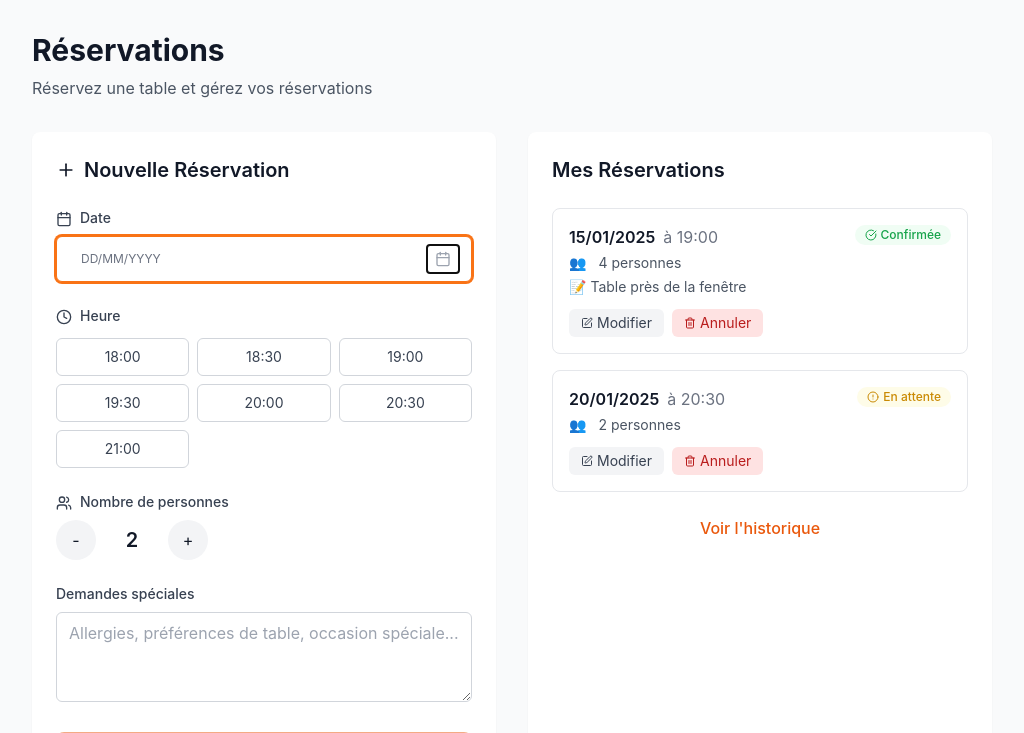
Scenario: Reservations Component › should increment/decrement party size with buttons
expect the text with class "font-semibold" reads "2": met, box 126,528 -> 138,552
// Increment party size
Step 1. Click the button "+" → (188, 540), box 168,520 -> 208,560
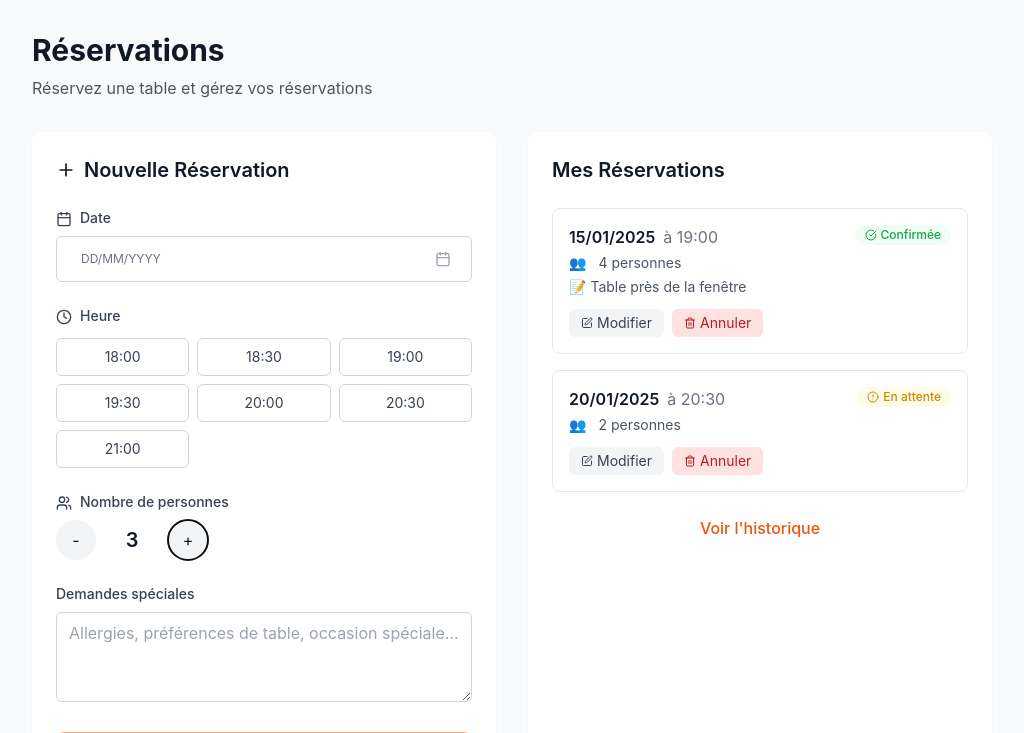
expect the text with class "font-semibold" reads "3": met, box 126,528 -> 138,552
// Decrement party size back to 2
Step 2. Click the button "-" → (76, 540), box 56,520 -> 96,560
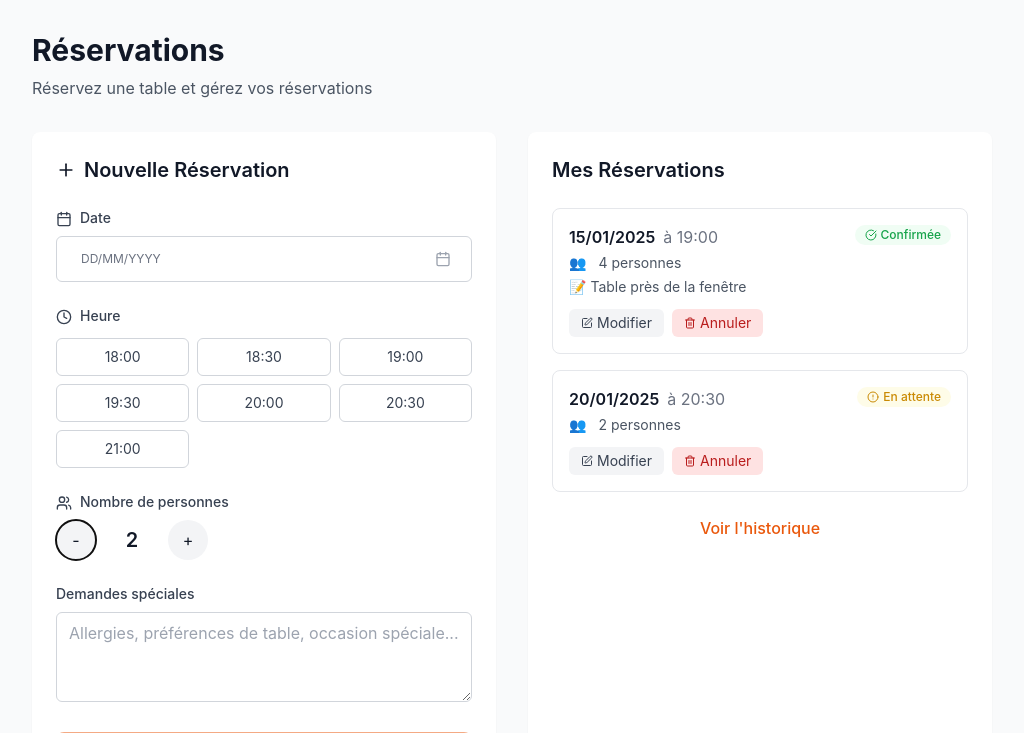
expect the text with class "font-semibold" reads "2": met, box 126,528 -> 138,552
// Decrement one more time to 1
Step 3. Click the button "-" → (76, 540), box 56,520 -> 96,560
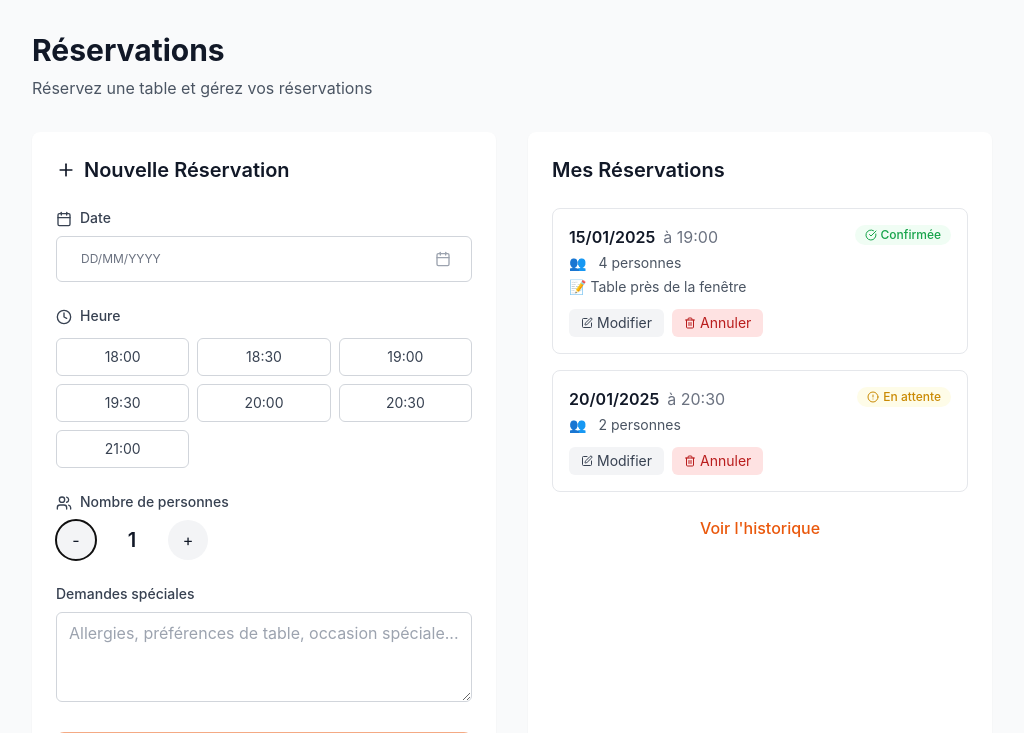
expect the text with class "font-semibold" reads "1": met, box 128,528 -> 136,552
